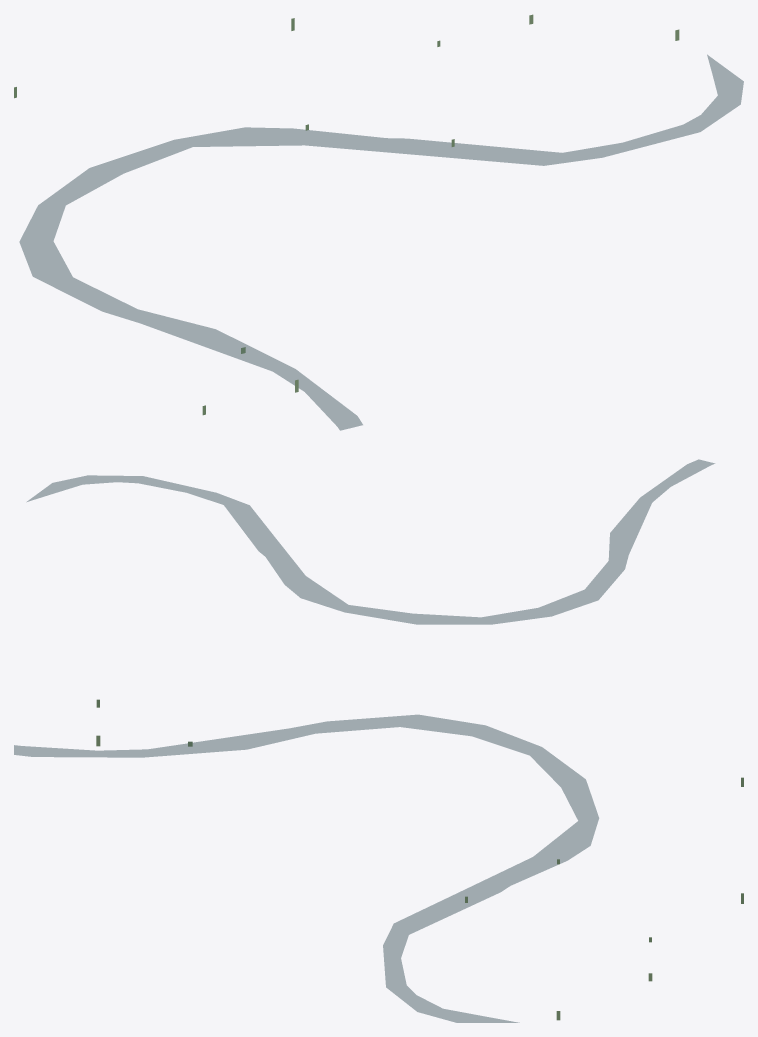
The picture shows the model from 3 angles, top to bottom: view 1: azimuth 30°, elevation 25°; view 2: azimuth 150°, elevation 25°; view 3: azimuth 270°, elevation 25°; orthographic projection. The views are drawn at different scales.
Size of the model in its own units: 486 by 9.18 by 476.
